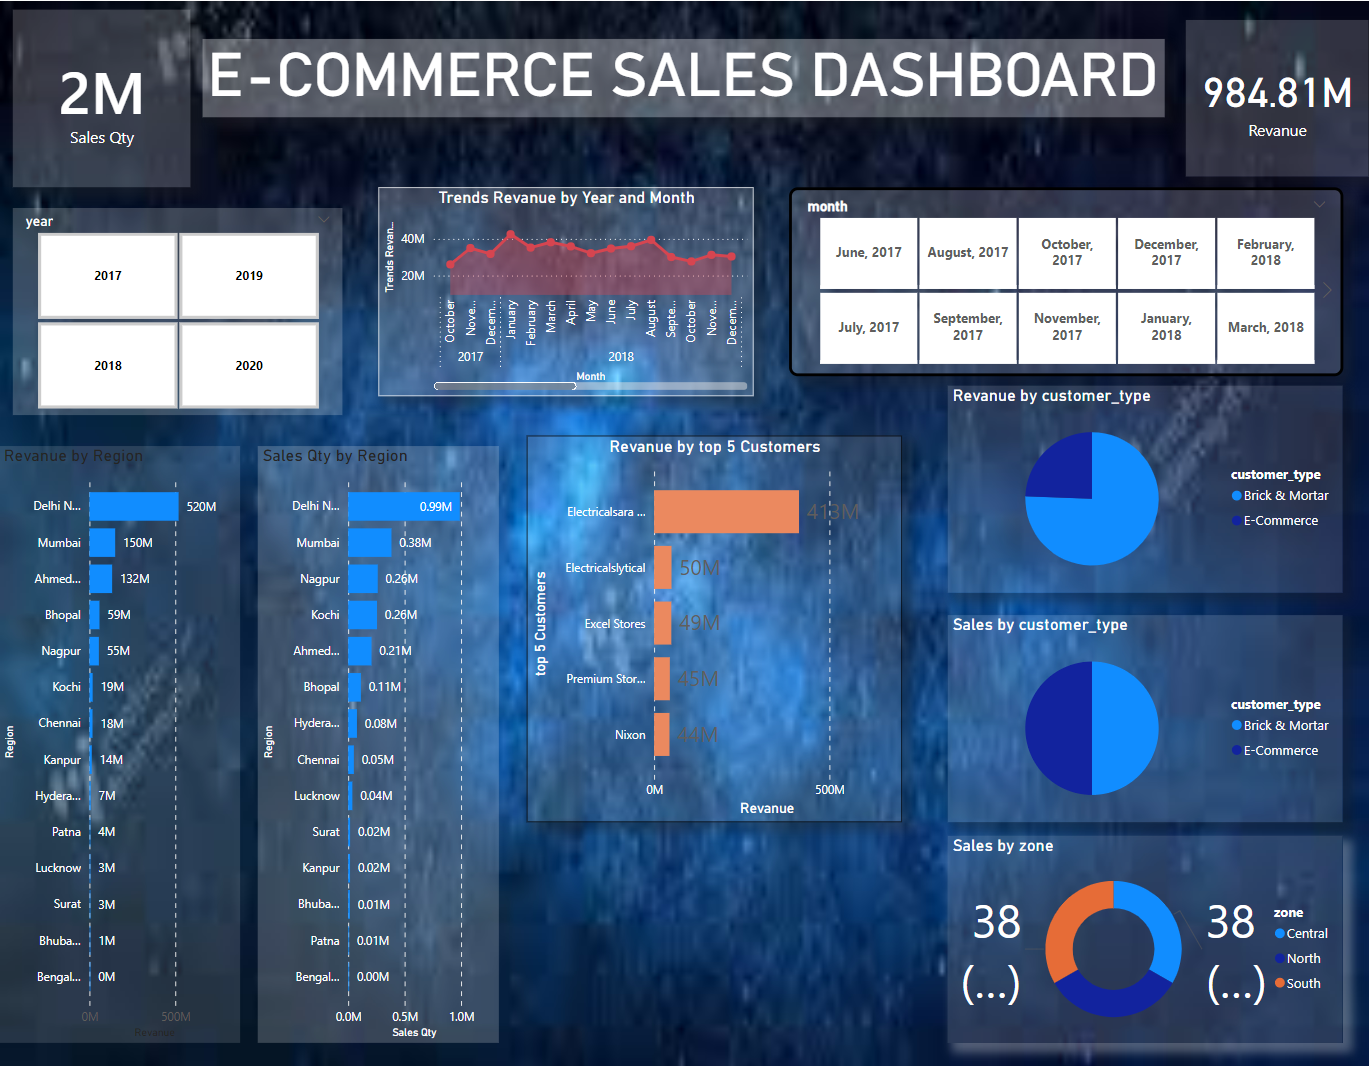

Layout of this report page (visuals, bound fields, positions):
{"tool":"powerbi","page":{"name":"Page 1","canvas":[1400,1100],"ordinal":0},"visuals":[{"type":"card","fields":{"Values":["BaseMeasure.Revanue"]},"box":[1213.3,20,186.7,160],"z":0},{"type":"card","fields":{"Values":["BaseMeasure.Sales Qty"]},"box":[13.3,8.3,181.7,181.7],"z":1000},{"type":"barChart","fields":{"Y":["BaseMeasure.Revanue"],"Category":["sales markets.markets_name"]},"box":[0,455,246.7,610],"z":2000},{"type":"barChart","fields":{"Y":["BaseMeasure.Sales Qty"],"Category":["sales markets.markets_name"]},"box":[265,455,246.7,610],"z":3000},{"type":"slicer","fields":{"Values":["sales date.year"]},"box":[13.3,211.7,336.7,211.7],"z":4000},{"type":"slicer","fields":{"Values":["sales date.cy_date"]},"box":[806.7,190,566.7,193.3],"z":5000},{"type":"barChart","fields":{"Y":["BaseMeasure.Revanue"],"Category":["sales customers.custmer_name"]},"box":[540,443.3,383.3,395],"z":6000},{"type":"lineChart","fields":{"Y":["BaseMeasure.Revanue"],"Category":["sales date.date.Variation.Date Hierarchy.Year","sales date.date.Variation.Date Hierarchy.Month"]},"box":[388.3,190,383.3,213.3],"z":7000},{"type":"pieChart","fields":{"Category":["sales customers.customer_type"],"Y":["BaseMeasure.Revanue"]},"box":[970,393.3,403.3,211.7],"z":8000},{"type":"pieChart","fields":{"Category":["sales customers.customer_type"],"Y":["CountNonNull(sales customers.customer_code)"]},"box":[970,626.7,403.3,211.7],"z":9000},{"type":"donutChart","fields":{"Category":["sales markets.zone"],"Y":["CountNonNull(sales customers.customer_code)"]},"box":[970,853.3,403.3,211.7],"z":10000},{"type":"textbox","title":"E-COMMERCE SALES DASHBOARD","box":[208.3,38.3,983.3,80],"z":10001}]}

Visuals, with their boxes in screenshot pixels (x1, y1, x2, y2), scaled from the page's 1400x1100 canvas onto the 1369x1066 screenshot:
card - BaseMeasure.Revanue: (1186,19,1368,174)
card - BaseMeasure.Sales Qty: (13,8,191,184)
barChart - BaseMeasure.Revanue x sales markets.markets_name: (0,441,241,1032)
barChart - BaseMeasure.Sales Qty x sales markets.markets_name: (259,441,500,1032)
slicer - sales date.year: (13,205,342,410)
slicer - sales date.cy_date: (789,184,1343,371)
barChart - BaseMeasure.Revanue x sales customers.custmer_name: (528,430,903,812)
lineChart - BaseMeasure.Revanue x sales date.date.Variation.Date Hierarchy.Year: (380,184,755,391)
pieChart - sales customers.customer_type x BaseMeasure.Revanue: (949,381,1343,586)
pieChart - sales customers.customer_type x CountNonNull(sales customers.customer_code): (949,607,1343,812)
donutChart - sales markets.zone x CountNonNull(sales customers.customer_code): (949,827,1343,1032)
"E-COMMERCE SALES DASHBOARD" textbox: (204,37,1165,115)
